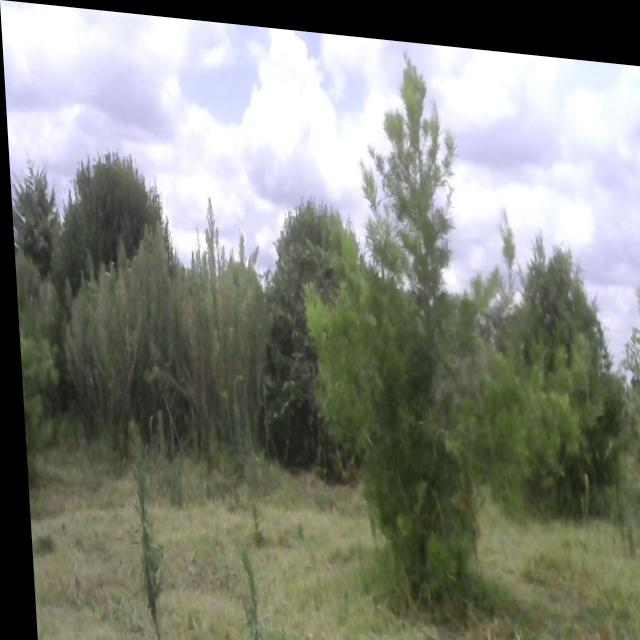Podocarpus falcatus: (314, 62, 524, 594)
cedrus: (495, 203, 628, 510), (258, 188, 375, 470), (49, 149, 187, 276)
